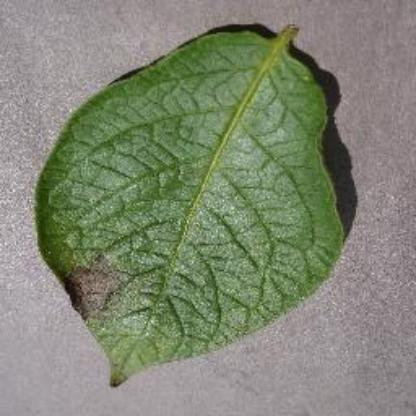Late-Blight: (26, 17, 364, 401)
